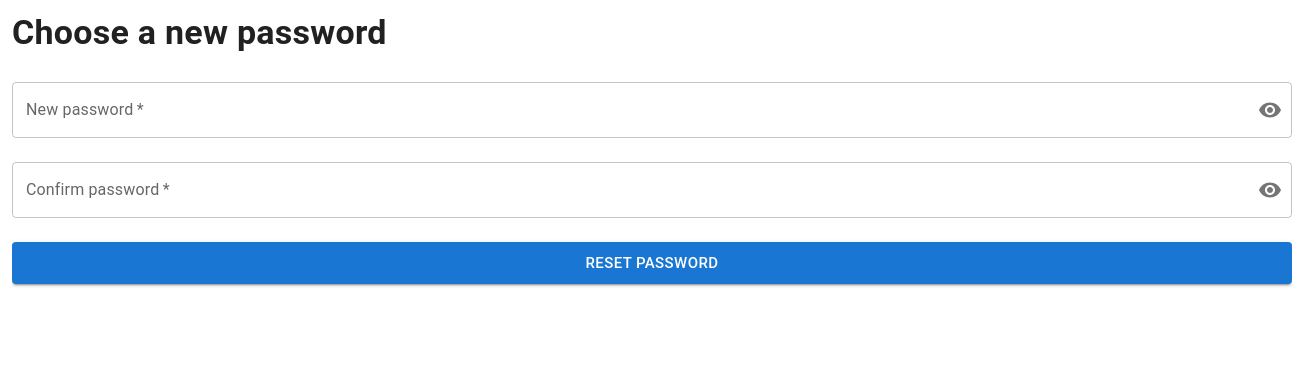
Test: ResetPasswordForm › validates then posts the token and password
The image size is (1304, 368).
Type "short" into the password field with test id "reset-password". click: x=627, y=110
box: [12, 82, 1242, 138]
Type "short" into the password field with test id "reset-confirm". click: x=627, y=190
box: [12, 162, 1242, 218]
Submit the form with test id "reset-form"
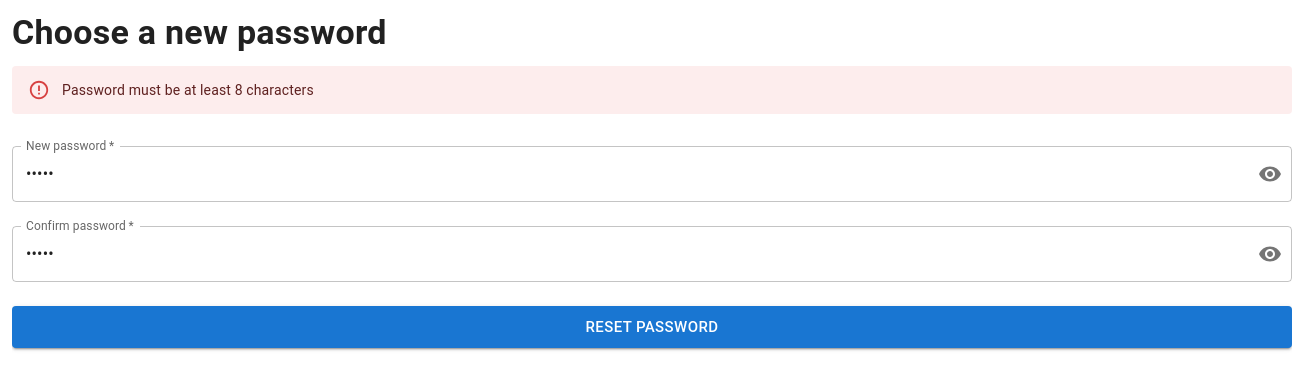
Result: the message with test id "reset-error" shows "8 char" at [62, 82, 314, 98]
Type "longenough1" into the password field with test id "reset-password". click: x=627, y=174
box: [12, 146, 1242, 202]
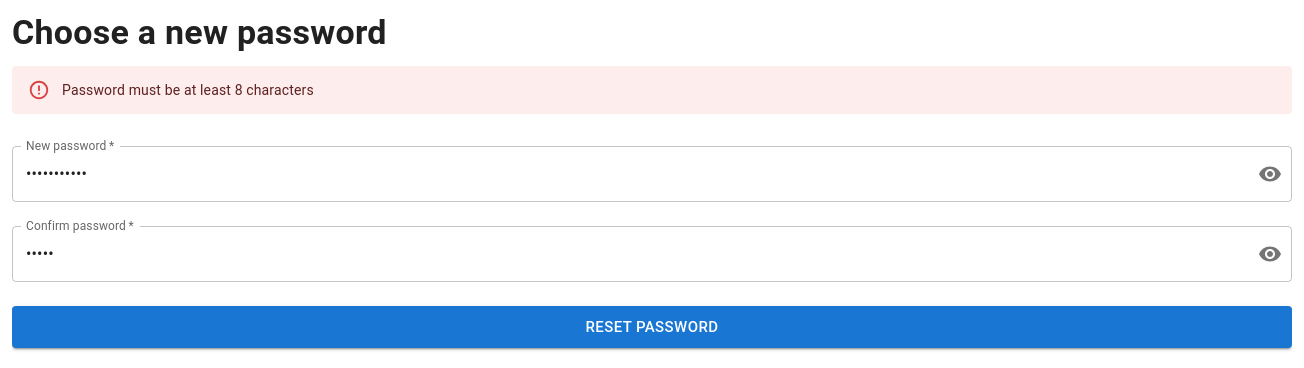
Type "different1" into the password field with test id "reset-confirm". click: x=627, y=254
box: [12, 226, 1242, 282]
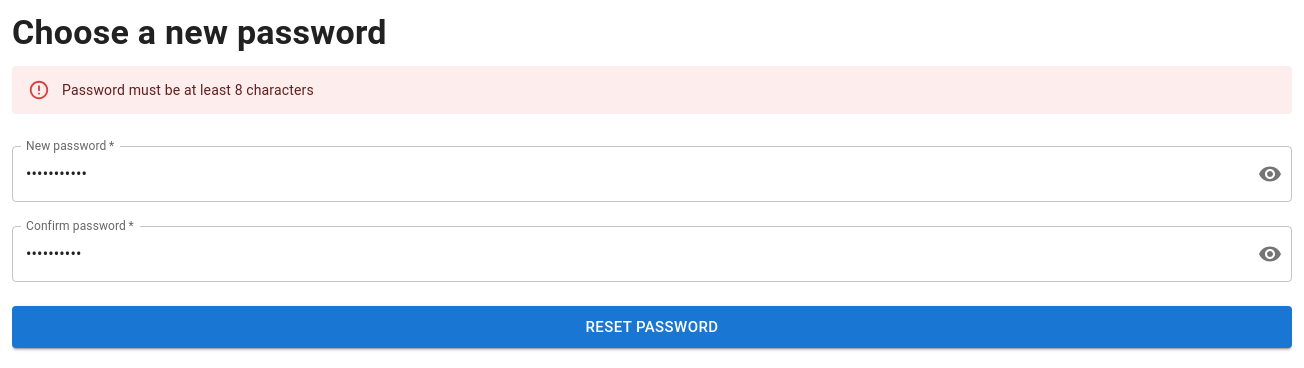
Submit the form with test id "reset-form"
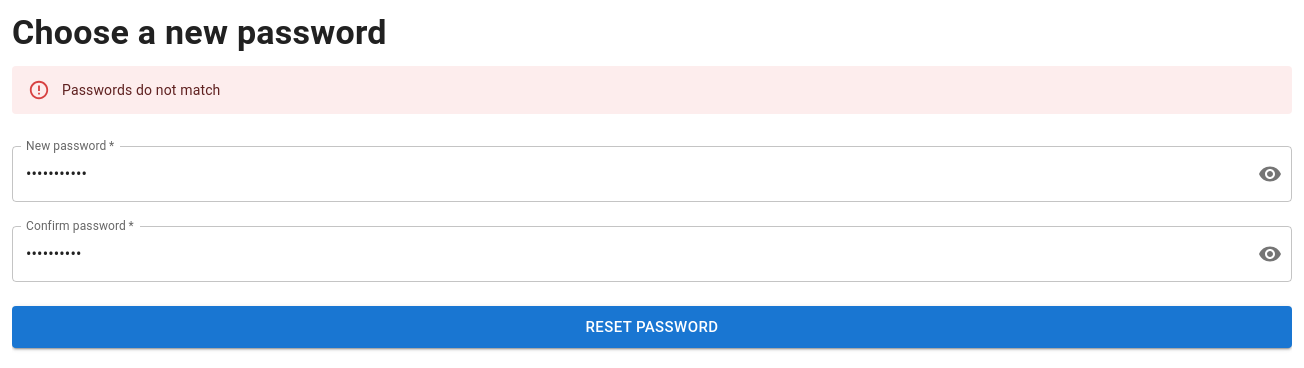
Result: the message with test id "reset-error" shows "match" at [62, 82, 220, 98]
Type "longenough1" into the password field with test id "reset-confirm". click: x=627, y=254
box: [12, 226, 1242, 282]
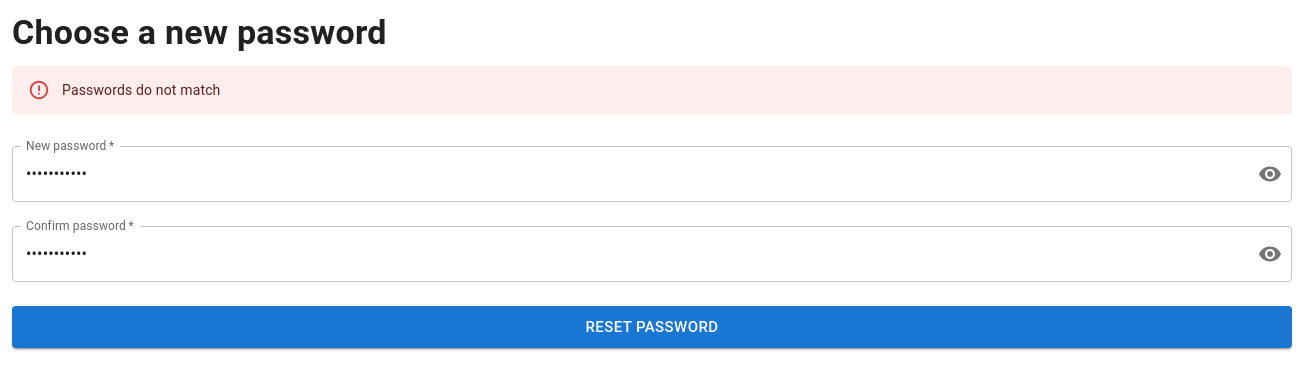
Submit the form with test id "reset-form"
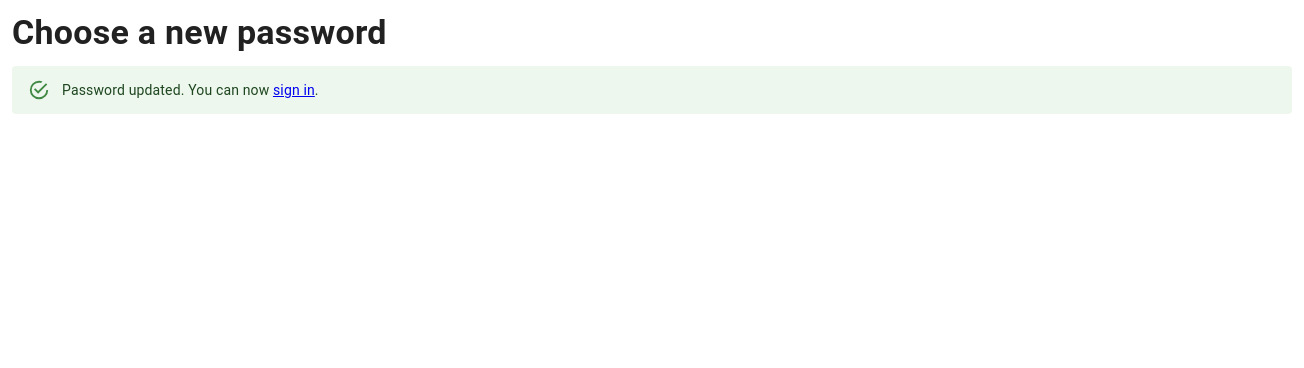
Result: the message "Password updated. You can now sign in ." is shown at [12, 66, 1292, 114]
